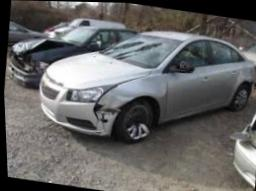Fender: (93, 72, 168, 136), (232, 68, 254, 91)
